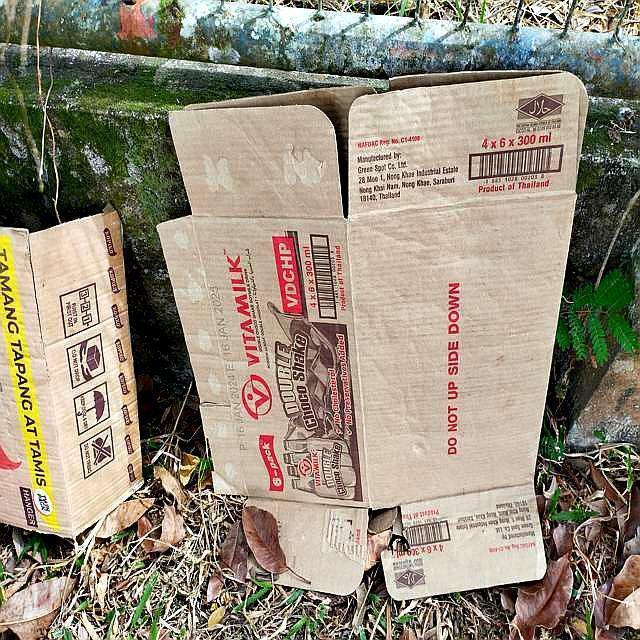Biodegradable: (157, 71, 591, 601), (1, 207, 141, 543)
